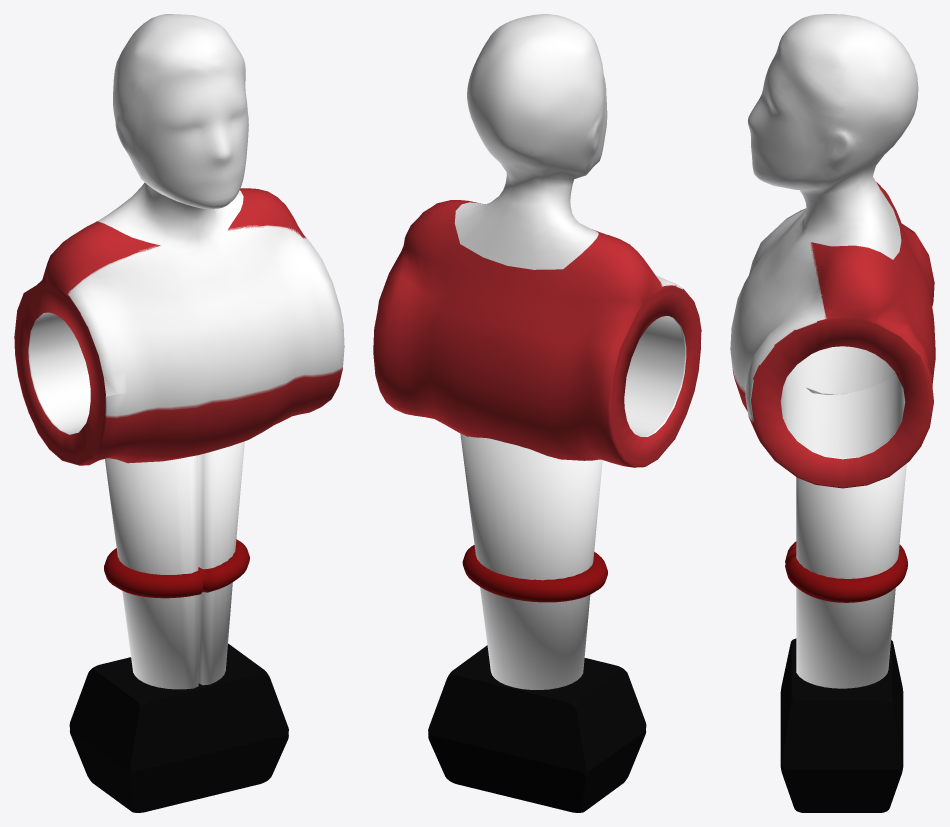
Rendered from blue_kit_1_foosball_player.obj.
3 renders of one model, left to right at view 1: azimuth 30°, elevation 25°; view 2: azimuth 150°, elevation 25°; view 3: azimuth 270°, elevation 25°, orthographic.
Visible parts, largest first — view 1: Socks_Torus; view 2: Socks_Torus; view 3: Socks_Torus.
Boxes of the visible parts, x1,y1,x2,y2 form: Socks_Torus: (14, 14, 344, 812); Socks_Torus: (373, 14, 701, 812); Socks_Torus: (730, 14, 935, 812).
Size of the model in its own units: 4.49 by 13.64 by 3.34.
